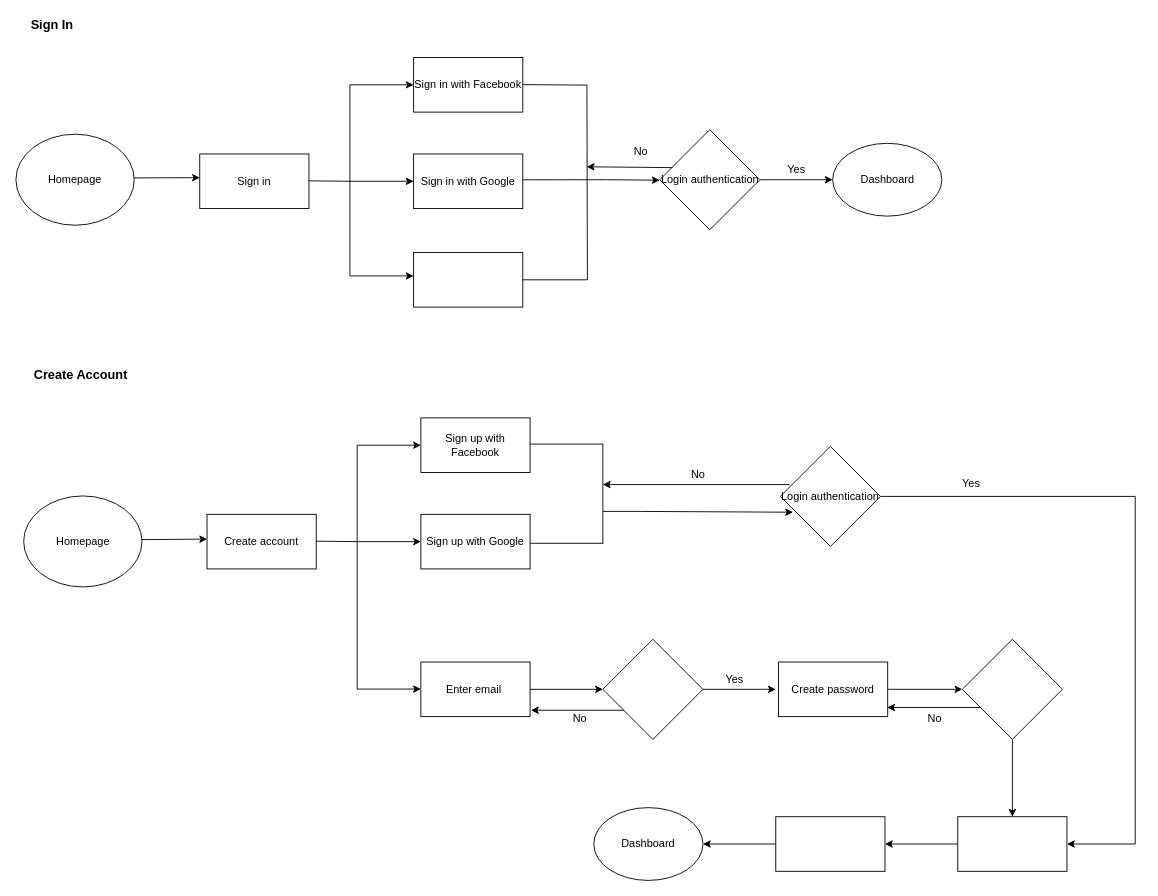
Image size: 1158x896. Some labels were removed from this diagram. The shapes that lost their labels are listed below. From the top down, each one's centre as x and y in pixels, then its label:
At (x=468, y=279): "Enter email and password".
At (x=652, y=688): "Email is unique".
At (x=1011, y=688): "Password is secure".
At (x=830, y=843): "Login to account".
At (x=1012, y=843): "Agree to terms & conditions".
